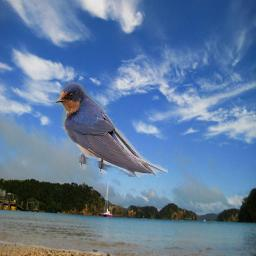Swallow: (55, 81, 168, 177)
